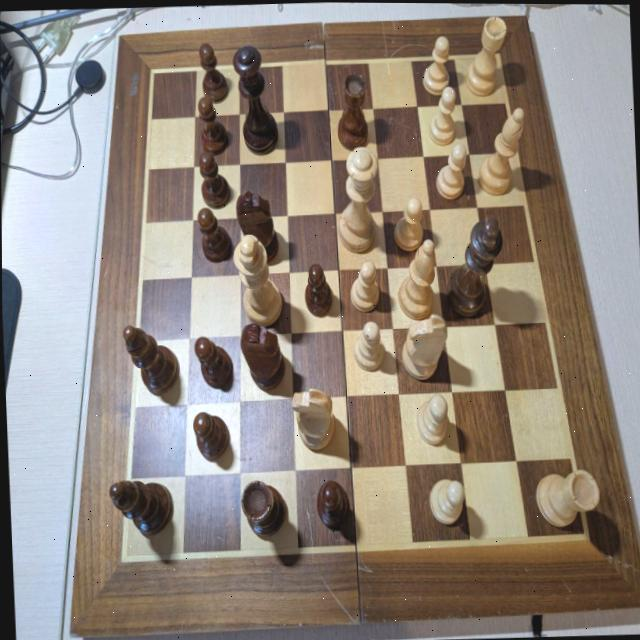black_bishop: (120, 322, 178, 396), (107, 476, 172, 536)
black_king: (441, 209, 504, 316)
black_knight: (235, 190, 279, 262), (239, 320, 285, 388)
black_pawn: (193, 335, 234, 392), (196, 202, 233, 262), (313, 478, 350, 532), (192, 410, 230, 462), (196, 94, 228, 155), (198, 41, 228, 102), (197, 153, 230, 207), (302, 263, 331, 317)
black_queen: (232, 44, 277, 156)
black_rook: (239, 477, 286, 537), (335, 70, 370, 150)
white_bishop: (475, 106, 527, 195), (394, 237, 437, 319)
white_king: (232, 232, 281, 326)
white_knight: (400, 312, 449, 380), (291, 388, 334, 450)
white_pawn: (414, 391, 451, 447), (426, 83, 459, 145), (434, 141, 468, 199), (420, 33, 451, 96), (426, 476, 465, 524), (392, 196, 425, 251), (347, 258, 380, 313), (352, 319, 385, 371)
white_queen: (331, 143, 379, 253)
white_rook: (533, 466, 600, 526), (463, 14, 508, 95)
